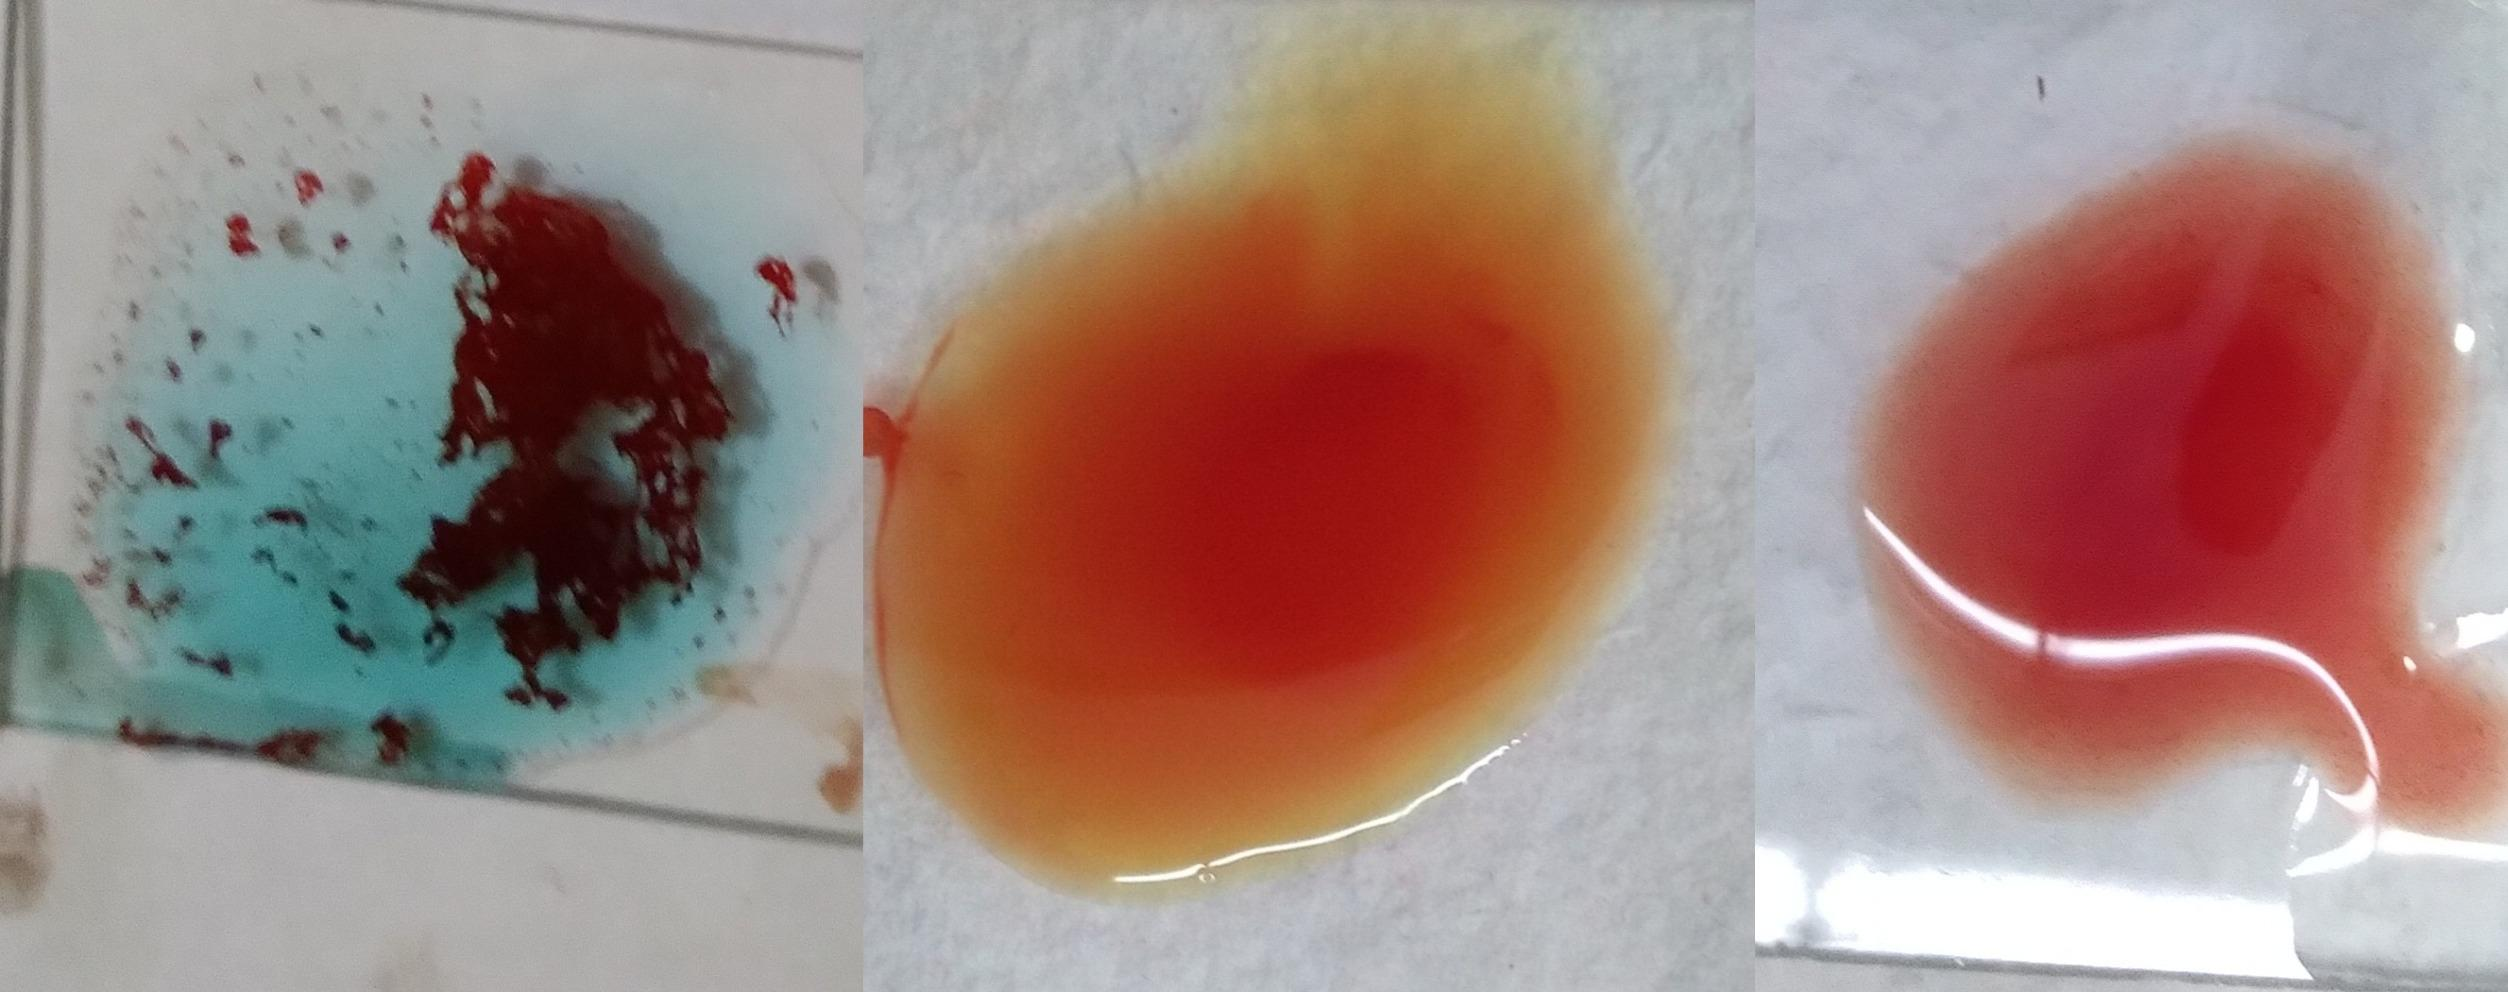A: (91, 70, 773, 770)
